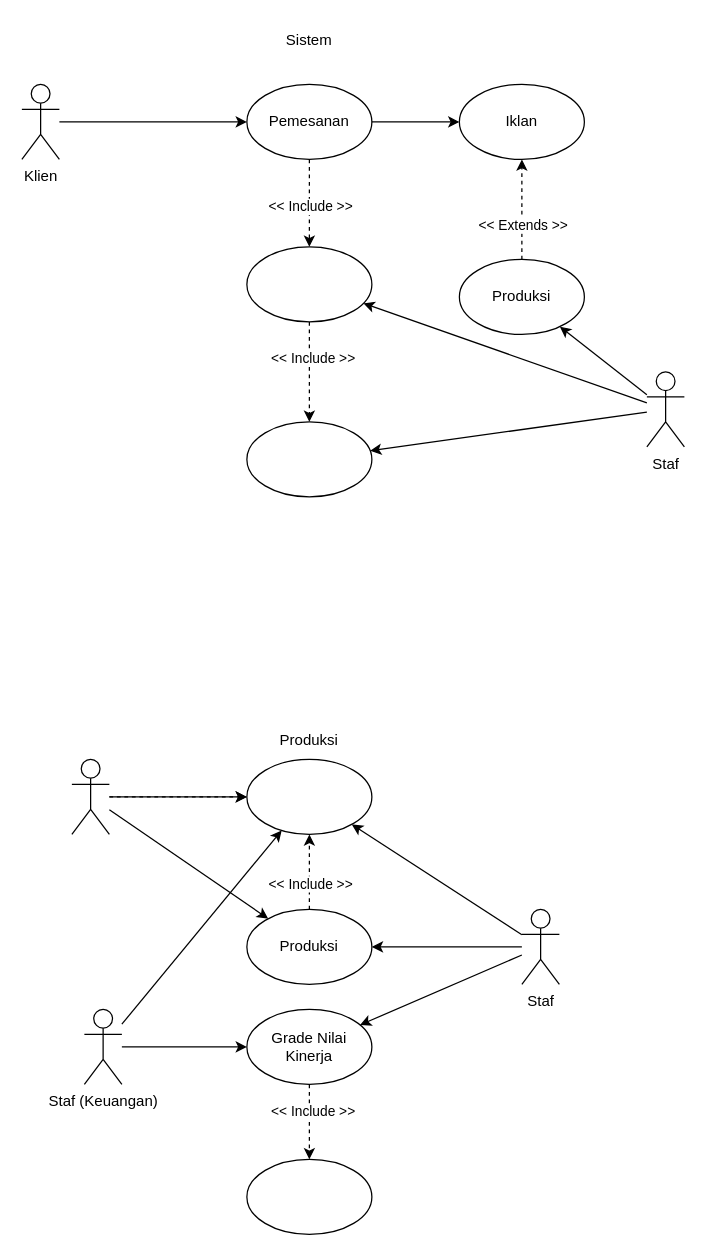
Some shapes in this 706 by 1256 pixel diagram are drawn without their labels. Here are the shapes that lost their labels. From the top down, the box of each, then its label:
(246, 246, 372, 322): Invoice
(246, 421, 372, 497): Pembayaran
(71, 758, 109, 834): Staf (Kreatif)
(246, 758, 372, 834): Rincian Proses
(246, 1158, 372, 1234): Akomodasi Bonus
